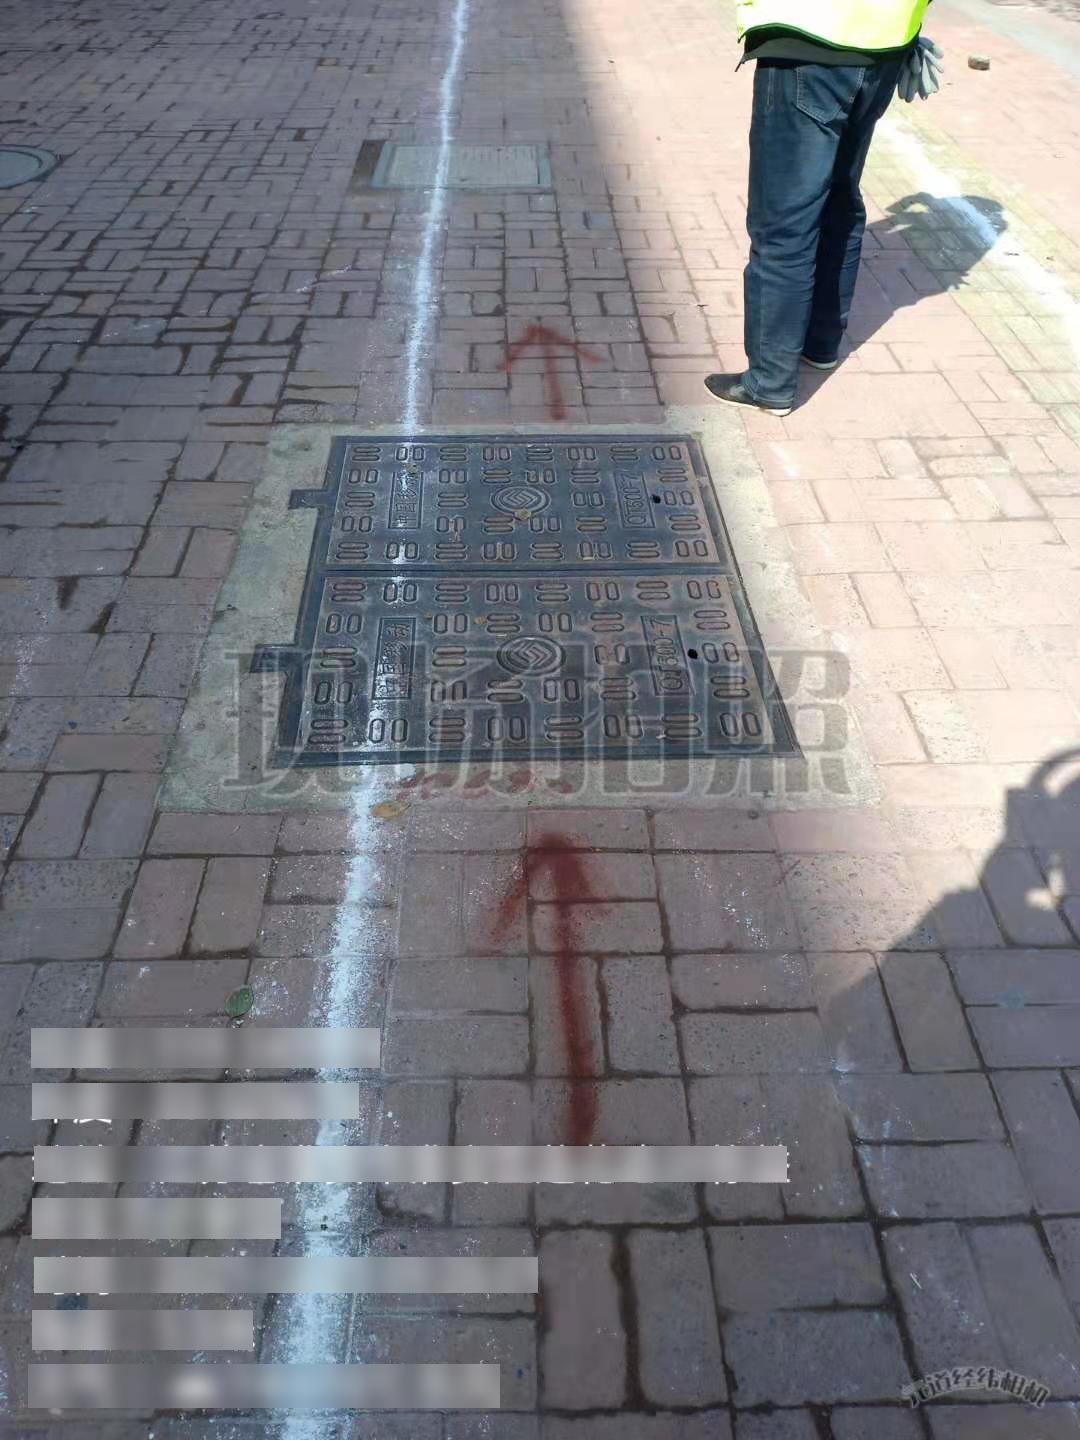good: (247, 425, 811, 766), (368, 134, 552, 190)
